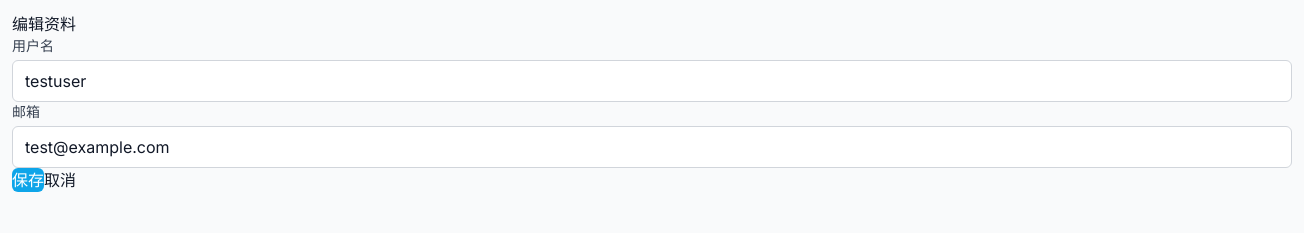
ProfileForm - 字段验证 › 无效邮箱格式应该显示验证错误
Step 1. Replace the text in the field labelled "邮箱" with "invalid-email" → (652, 147), box [12,126,1292,168]
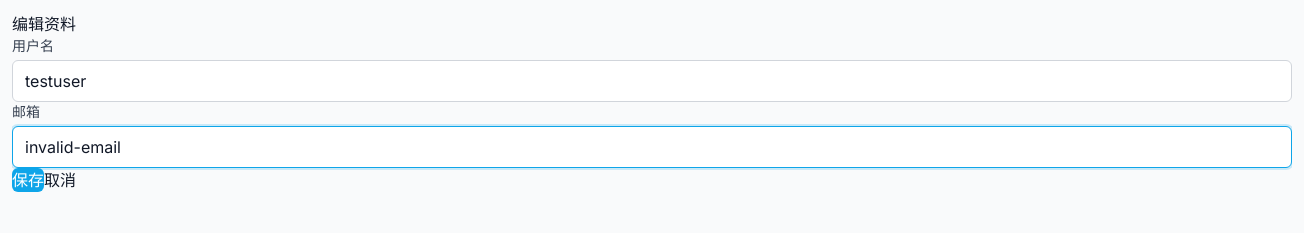
Step 2. Click the button "保存" → (28, 180), box [12,168,44,192]
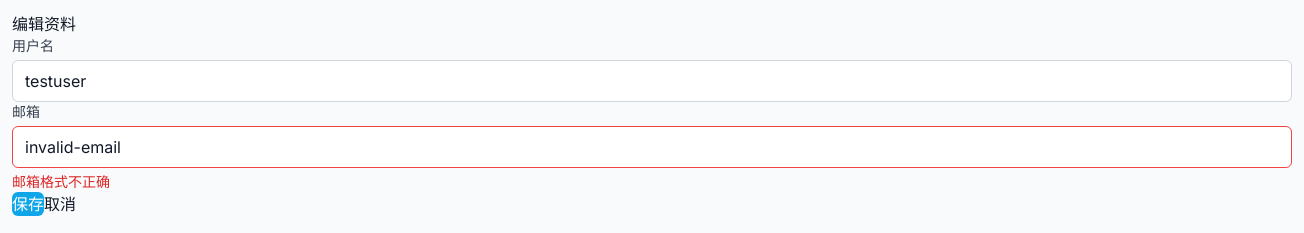
Result: the text "邮箱格式不正确" is shown at [12,173,110,190]
